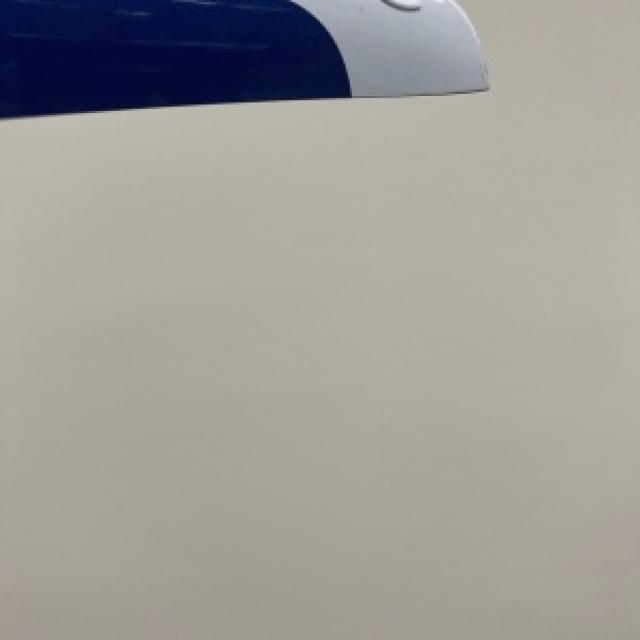healthy: (0, 0, 484, 115)
